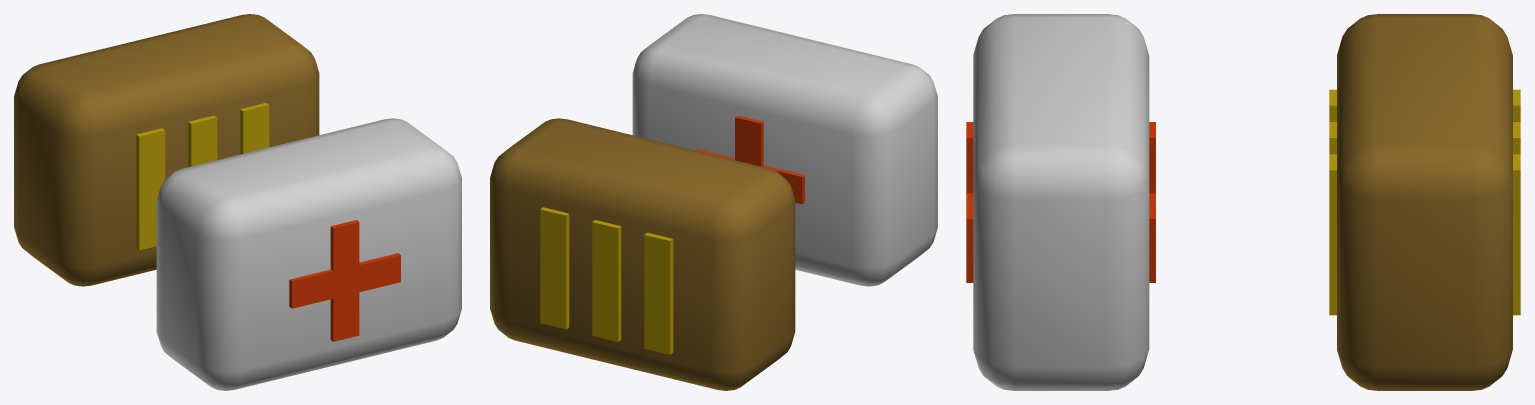
File: Bonuses.fbx
3 renders of one model, left to right at view 1: azimuth 30°, elevation 25°; view 2: azimuth 150°, elevation 25°; view 3: azimuth 270°, elevation 25°, orthographic. The views are drawn at different scales.
Parts seen in each view (by area): view 1: Аптечка, Патрони; view 2: Патрони, Аптечка; view 3: Патрони, Аптечка.
Boxes of the visible parts, <box> form: Аптечка: <box>156,118,461,390</box>; Патрони: <box>14,14,319,286</box>; Патрони: <box>490,118,795,390</box>; Аптечка: <box>632,14,937,286</box>; Патрони: <box>1329,14,1520,390</box>; Аптечка: <box>966,14,1155,390</box>.
Bounding box in the file's own units: 20 × 14 × 28.96.
